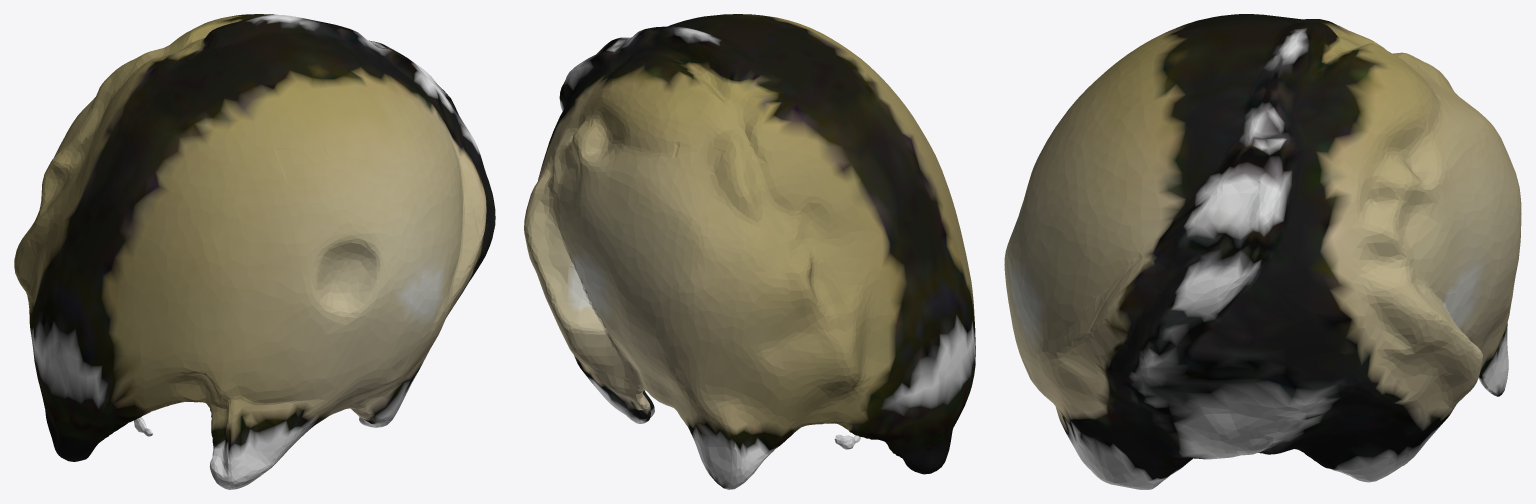
The model's file is b_helmet.glb.
The picture shows the model from 3 angles, left to right: view 1: azimuth 30°, elevation 25°; view 2: azimuth 150°, elevation 25°; view 3: azimuth 270°, elevation 25°; orthographic projection. The views are drawn at different scales.
Parts seen in each view (by area): view 1: geometry_0; view 2: geometry_0; view 3: geometry_0.
Boxes of the visible parts, left/top/right/bottom form: geometry_0: left=14, top=14, right=495, bottom=489; geometry_0: left=524, top=14, right=975, bottom=489; geometry_0: left=1004, top=14, right=1521, bottom=489.
Bounding box in the file's own units: 0.4688 × 0.4351 × 0.4492.
